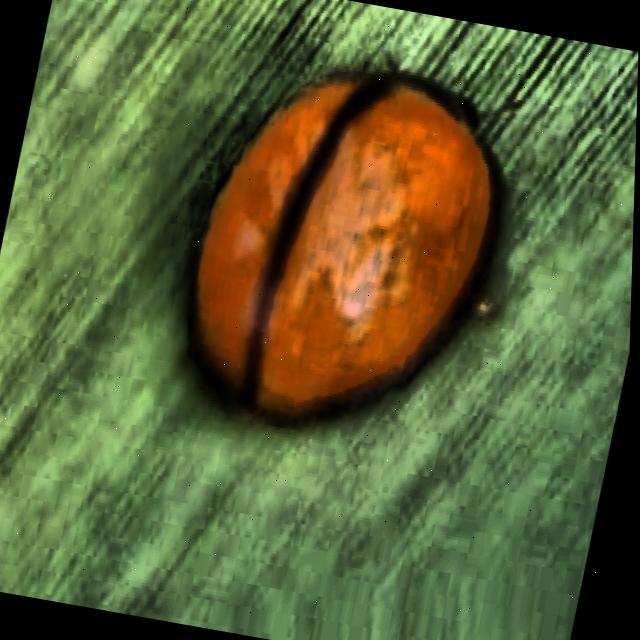Ladybug: (75, 0, 598, 532)
